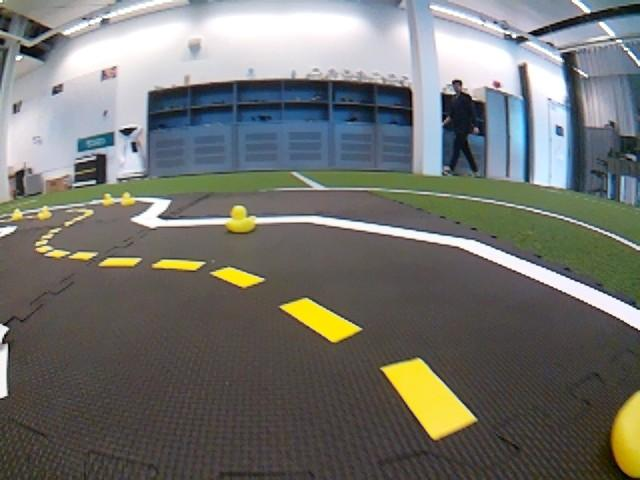Duckies: (613, 392, 640, 480), (224, 204, 258, 235), (36, 205, 52, 220), (119, 192, 136, 206), (101, 191, 115, 206), (11, 208, 24, 221)
